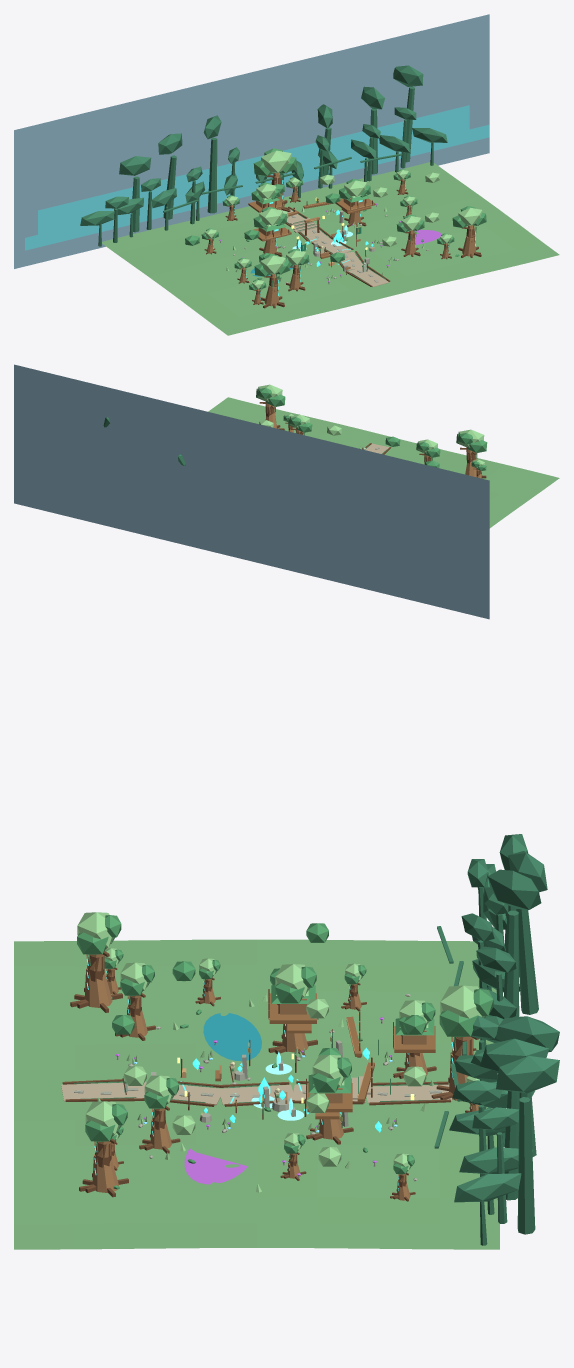
The model's file is thornveil_enclave_lowpoly_ingame_v001.glb.
The picture shows the model from 3 angles, top to bottom: view 1: azimuth 30°, elevation 25°; view 2: azimuth 150°, elevation 25°; view 3: azimuth 270°, elevation 25°; orthographic projection. The views are drawn at different scales.
Visible parts, largest first — view 1: ENV_Terrain_Backdrop_SoftMorningSky, ENV_Terrain_MainPlayableGround_60x40m, ENV_Terrain_Backdrop_BlueGreenAtmosphereBand, ENV_Terrain_Backdrop_DistantForestMistLowBand, ENV_Terrain_HeartboughGlade_MossBank, ENV_Trees_DistantMemoryTree_02_DarkTrunk, ENV_Trees_DistantMemoryTree_05_SoftCanopy, ENV_Trees_DistantMemoryTree_00_SoftCanopy, ENV_Trees_BackgroundHeartboughWorldroot_GiantFocalTree_Chunk, ENV_Trees_DistantMemoryTree_01_SoftCanopy, ENV_Trees_BackdropForestCanopyWall_10, ENV_Trees_BackdropForestCanopyWall_00; view 2: ENV_Terrain_Backdrop_SoftMorningSky, ENV_Terrain_MainPlayableGround_60x40m; view 3: ENV_Terrain_MainPlayableGround_60x40m, ENV_Terrain_MossglassPool_Water, ENV_Trees_DistantMemoryTree_05_DarkTrunk, ENV_Trees_DistantMemoryTree_05_SoftCanopy, ENV_Terrain_HeartboughGlade_MossBank, ENV_Trees_DistantMemoryTree_01_DarkTrunk, ENV_Trees_DistantMemoryTree_02_SoftCanopy, ENV_Trees_DistantMemoryTree_03_SoftCanopy, ENV_Trees_BackdropForestCanopyWall_10, ENV_Terrain_GreenScar_SickMoss, ENV_Trees_DistantMemoryTree_04_SoftCanopy, ENV_Trees_BackdropForestCanopyWall_09 (+7 smaller).
Boxes of the visible parts, x1,y1,x2,y2 form: ENV_Terrain_Backdrop_SoftMorningSky: [14, 14, 489, 268]; ENV_Terrain_MainPlayableGround_60x40m: [102, 162, 559, 335]; ENV_Terrain_Backdrop_BlueGreenAtmosphereBand: [38, 105, 469, 234]; ENV_Terrain_Backdrop_DistantForestMistLowBand: [25, 124, 489, 250]; ENV_Terrain_HeartboughGlade_MossBank: [276, 221, 347, 254]; ENV_Trees_DistantMemoryTree_02_DarkTrunk: [207, 137, 217, 213]; ENV_Trees_DistantMemoryTree_05_SoftCanopy: [393, 65, 423, 86]; ENV_Trees_DistantMemoryTree_00_SoftCanopy: [119, 156, 151, 175]; ENV_Trees_BackgroundHeartboughWorldroot_GiantFocalTree_Chunk: [261, 150, 291, 173]; ENV_Trees_DistantMemoryTree_01_SoftCanopy: [158, 133, 182, 154]; ENV_Trees_BackdropForestCanopyWall_10: [412, 128, 447, 142]; ENV_Trees_BackdropForestCanopyWall_00: [80, 211, 114, 225]; ENV_Terrain_Backdrop_SoftMorningSky: [14, 364, 489, 619]; ENV_Terrain_MainPlayableGround_60x40m: [208, 397, 559, 528]; ENV_Terrain_MainPlayableGround_60x40m: [14, 939, 499, 1249]; ENV_Terrain_MossglassPool_Water: [203, 1013, 261, 1061]; ENV_Trees_DistantMemoryTree_05_DarkTrunk: [517, 1097, 535, 1234]; ENV_Trees_DistantMemoryTree_05_SoftCanopy: [496, 1056, 559, 1093]; ENV_Terrain_HeartboughGlade_MossBank: [244, 1050, 366, 1128]; ENV_Trees_DistantMemoryTree_01_DarkTrunk: [516, 909, 538, 1014]; ENV_Trees_DistantMemoryTree_02_SoftCanopy: [488, 869, 541, 909]; ENV_Trees_DistantMemoryTree_03_SoftCanopy: [496, 1016, 559, 1052]; ENV_Trees_BackdropForestCanopyWall_10: [454, 1173, 521, 1202]; ENV_Terrain_GreenScar_SickMoss: [184, 1148, 247, 1184]; ENV_Trees_DistantMemoryTree_04_SoftCanopy: [480, 1038, 548, 1071]; ENV_Trees_BackdropForestCanopyWall_09: [459, 1147, 533, 1173].
Size of the model in its own units: 86 by 24 by 44.94.
